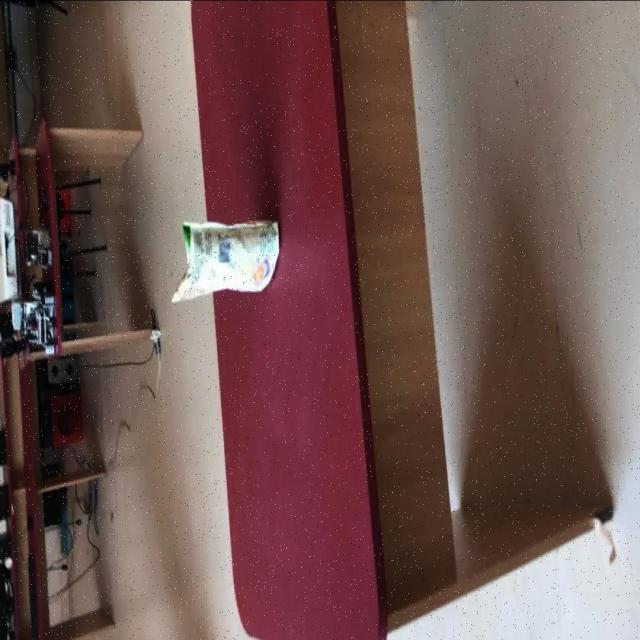CornFlakes: (170, 219, 280, 305)
